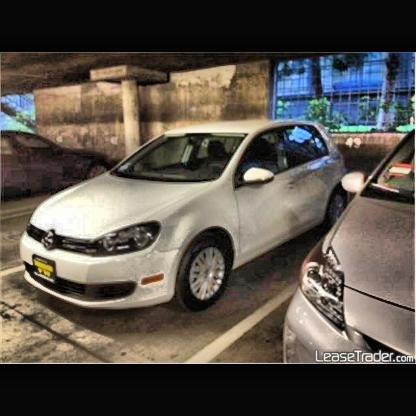Volkswagen Golf Hatchback 2012: (23, 122, 345, 311)
